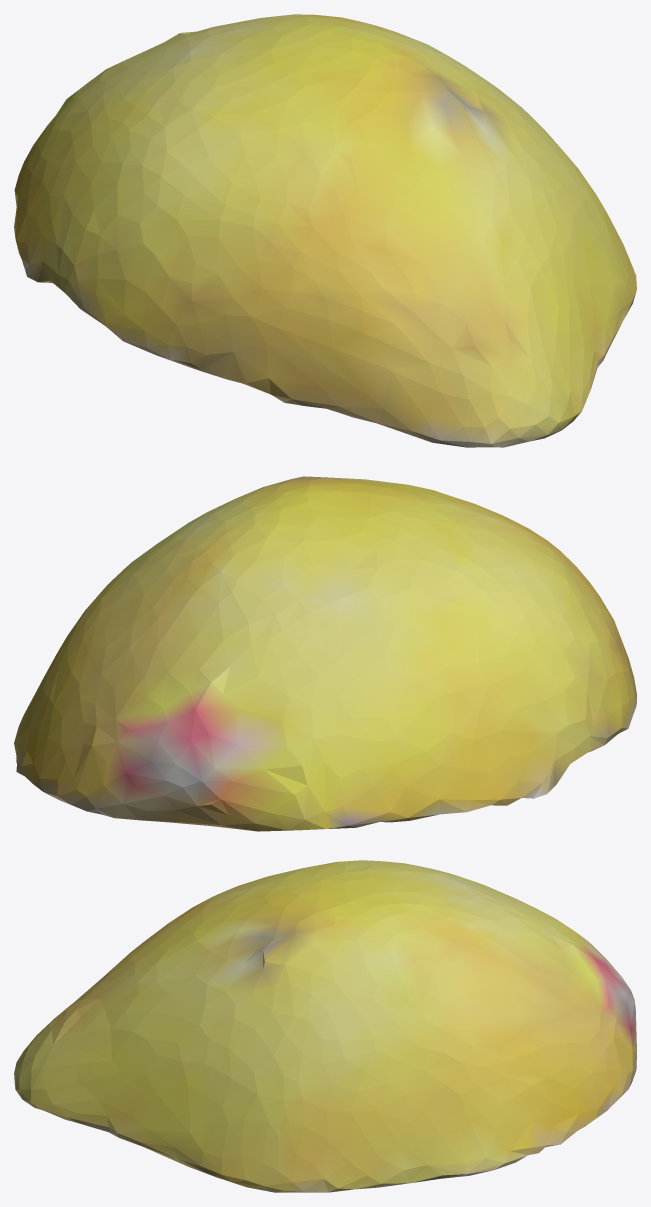
File: scan.obj
3 renders of one model, top to bottom at view 1: azimuth 30°, elevation 25°; view 2: azimuth 150°, elevation 25°; view 3: azimuth 270°, elevation 25°, orthographic. The views are drawn at different scales.
Visible parts, largest first — view 1: scan.ply; view 2: scan.ply; view 3: scan.ply.
Part boxes in pixels (left/top/right/bottom): scan.ply: left=14, top=14, right=636, bottom=447; scan.ply: left=14, top=476, right=636, bottom=831; scan.ply: left=14, top=860, right=636, bottom=1192.
Bounding box in the file's own units: 0.0702 × 0.0311 × 0.0878.
